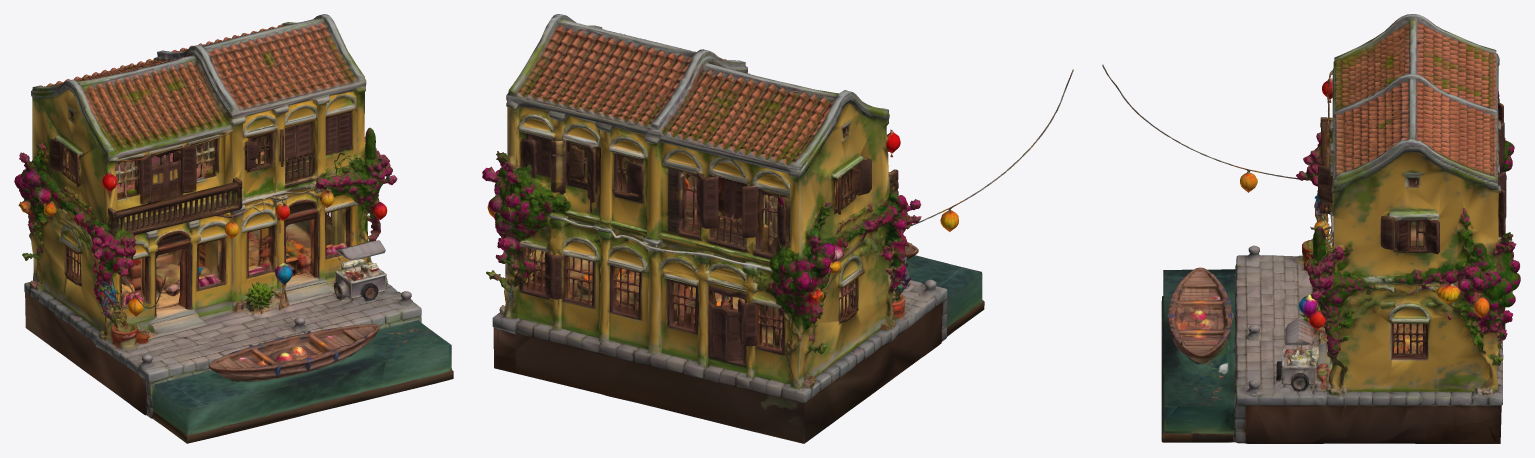
Rendered from hoian.glb.
3 renders of one model, left to right at view 1: azimuth 30°, elevation 25°; view 2: azimuth 150°, elevation 25°; view 3: azimuth 270°, elevation 25°, orthographic. The views are drawn at different scales.
Visible parts, largest first — view 1: Mesh_0; view 2: Mesh_0; view 3: Mesh_0.
Boxes of the visible parts, x1,y1,x2,y2 form: Mesh_0: [14, 14, 453, 443]; Mesh_0: [482, 14, 1073, 443]; Mesh_0: [1102, 14, 1520, 443].
Size of the model in its own units: 1.88 by 1.49 by 1.89.
1 material, 1 textured.
